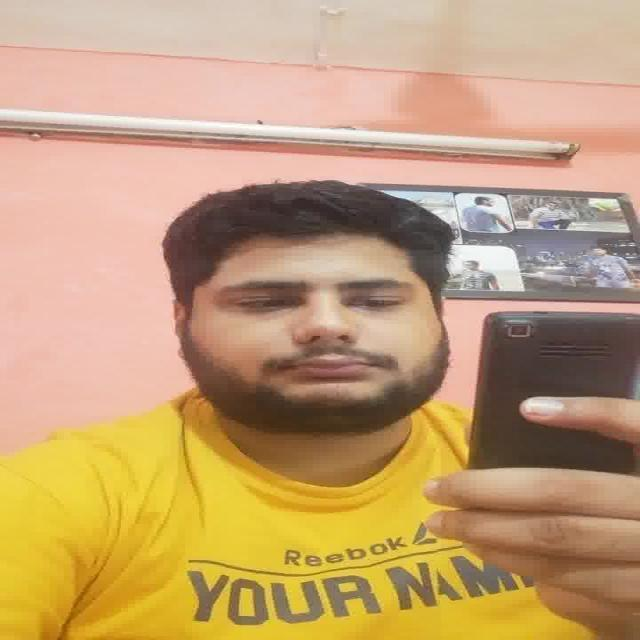Phone: (466, 312, 640, 472)
